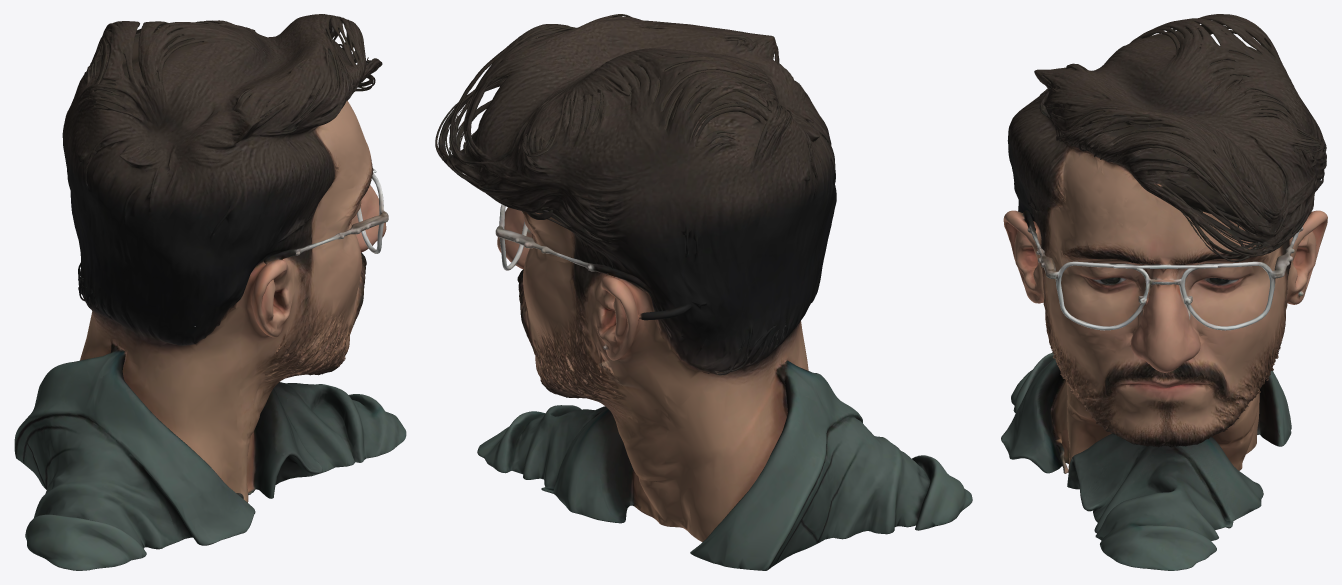
File: head.glb
3 views of the same model, side by side, from view 1: azimuth 30°, elevation 25°; view 2: azimuth 150°, elevation 25°; view 3: azimuth 270°, elevation 25° (orthographic). The views are drawn at different scales.
Parts seen in each view (by area): view 1: tripo_node_263f51b9-d489-4cad-81fb-bd0664603e57; view 2: tripo_node_263f51b9-d489-4cad-81fb-bd0664603e57; view 3: tripo_node_263f51b9-d489-4cad-81fb-bd0664603e57.
Part boxes in pixels (<box>): tripo_node_263f51b9-d489-4cad-81fb-bd0664603e57: <box>14,14,406,570</box>; tripo_node_263f51b9-d489-4cad-81fb-bd0664603e57: <box>435,14,972,570</box>; tripo_node_263f51b9-d489-4cad-81fb-bd0664603e57: <box>1001,14,1327,570</box>.
Bounding box in the file's own units: 0.9788 × 0.9795 × 0.656.
Materials: 1 (1 with a texture image).
